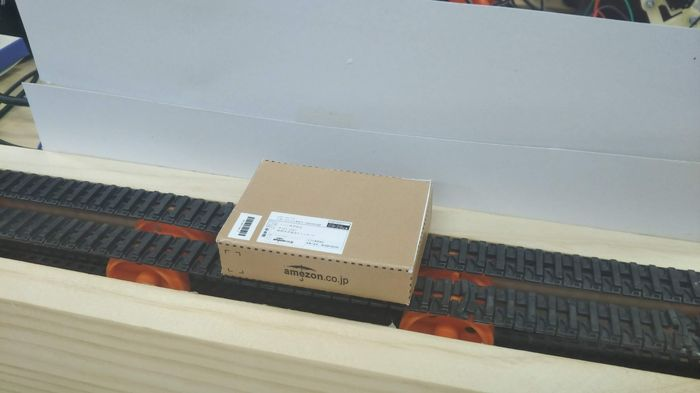box2: (213, 155, 442, 309)
